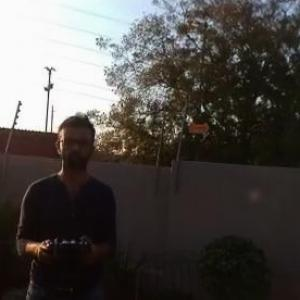follow: (13, 108, 125, 299)
